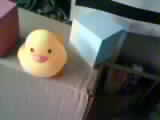duck: (20, 21, 78, 86)
